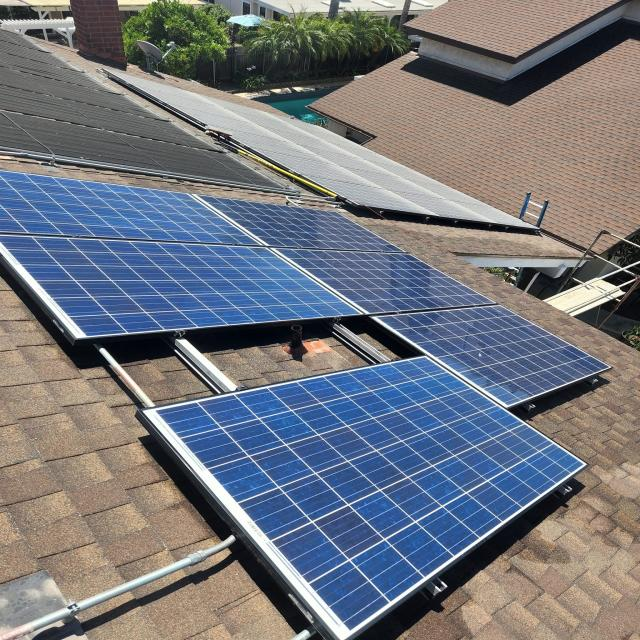clean-solar-panel: (138, 356, 585, 640), (195, 197, 610, 406), (0, 171, 358, 340), (3, 175, 87, 241)
